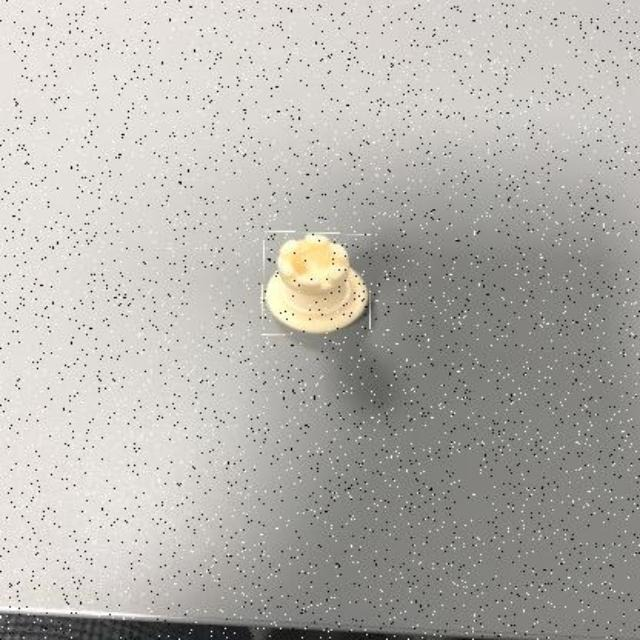white-rook: (263, 232, 371, 336)
